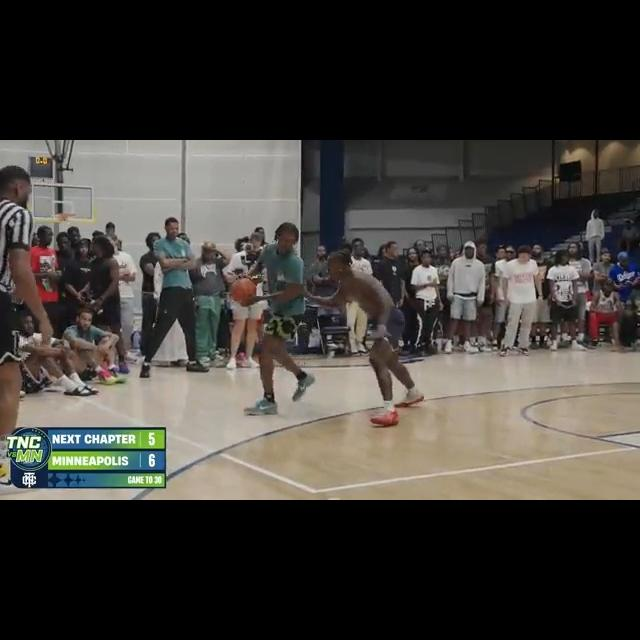basketball: (229, 274, 257, 306)
